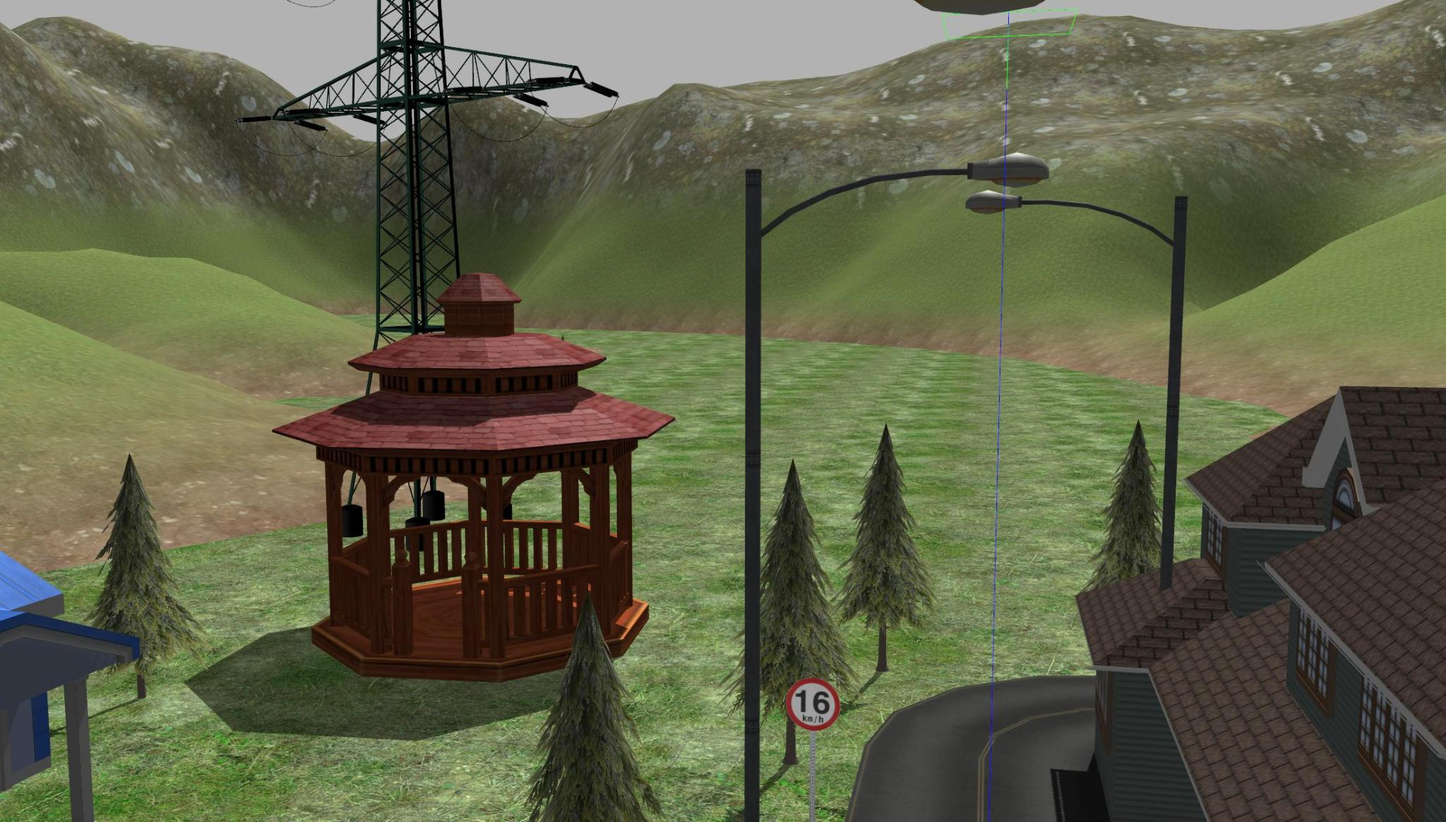tower: (267, 2, 587, 297)
